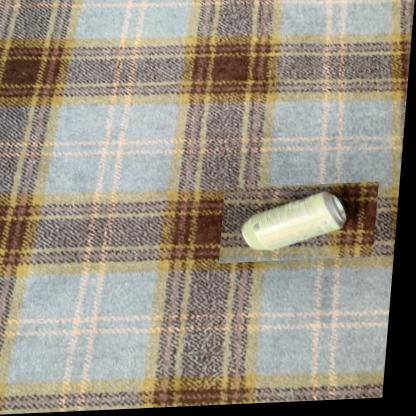trash: (242, 192, 345, 250)
